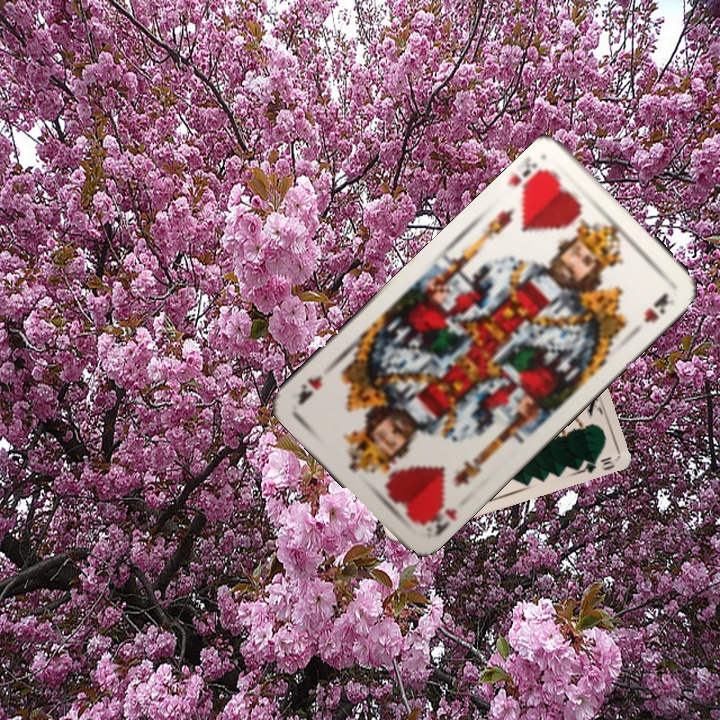HK: (415, 495, 460, 539), (513, 155, 552, 203)
